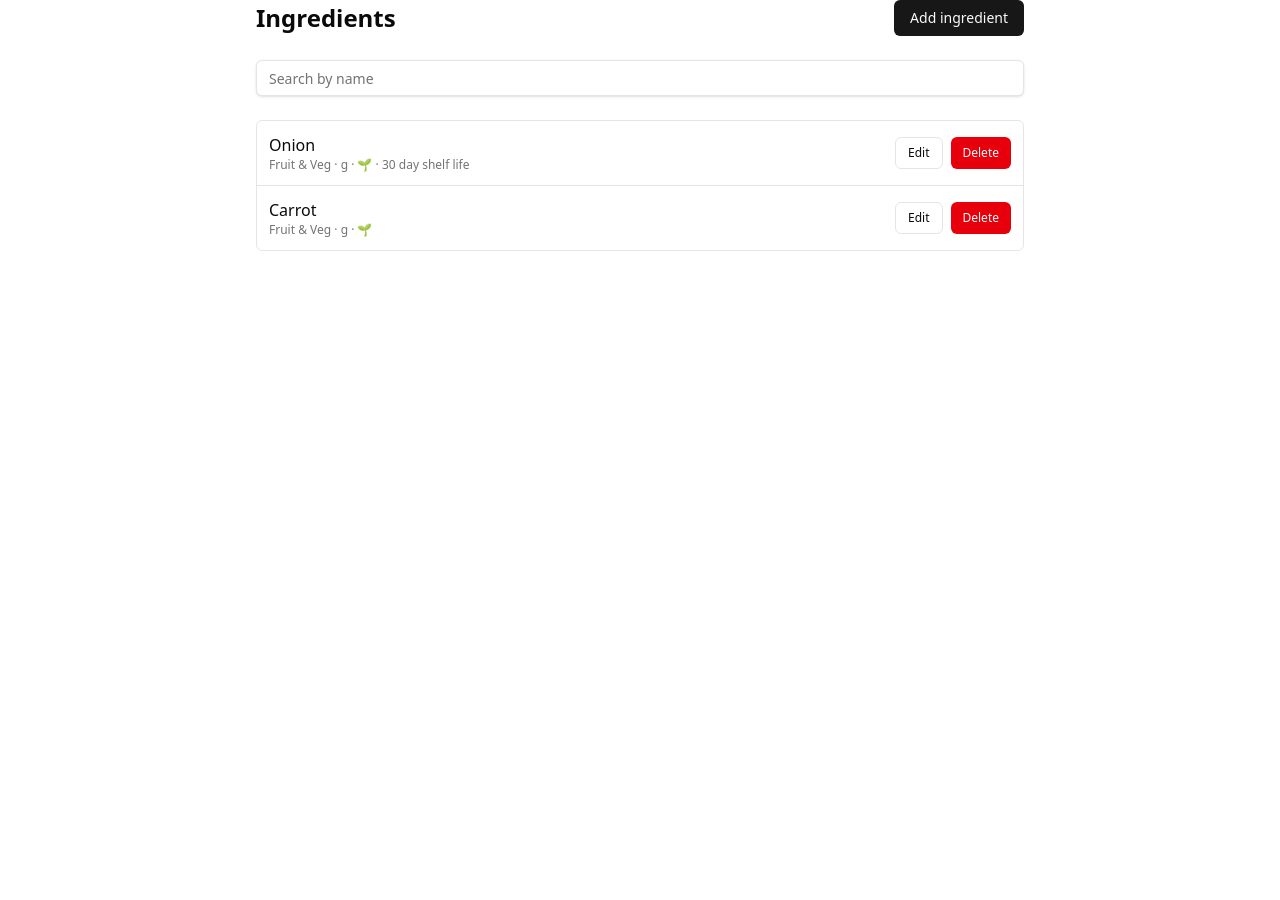
Test case: IngredientsPage › surfaces INGREDIENT_NAME_TAKEN on the form during create
This screenshot has width=1280, height=900.
Click the button "Add ingredient": (959, 18) 894,0 -> 1024,36
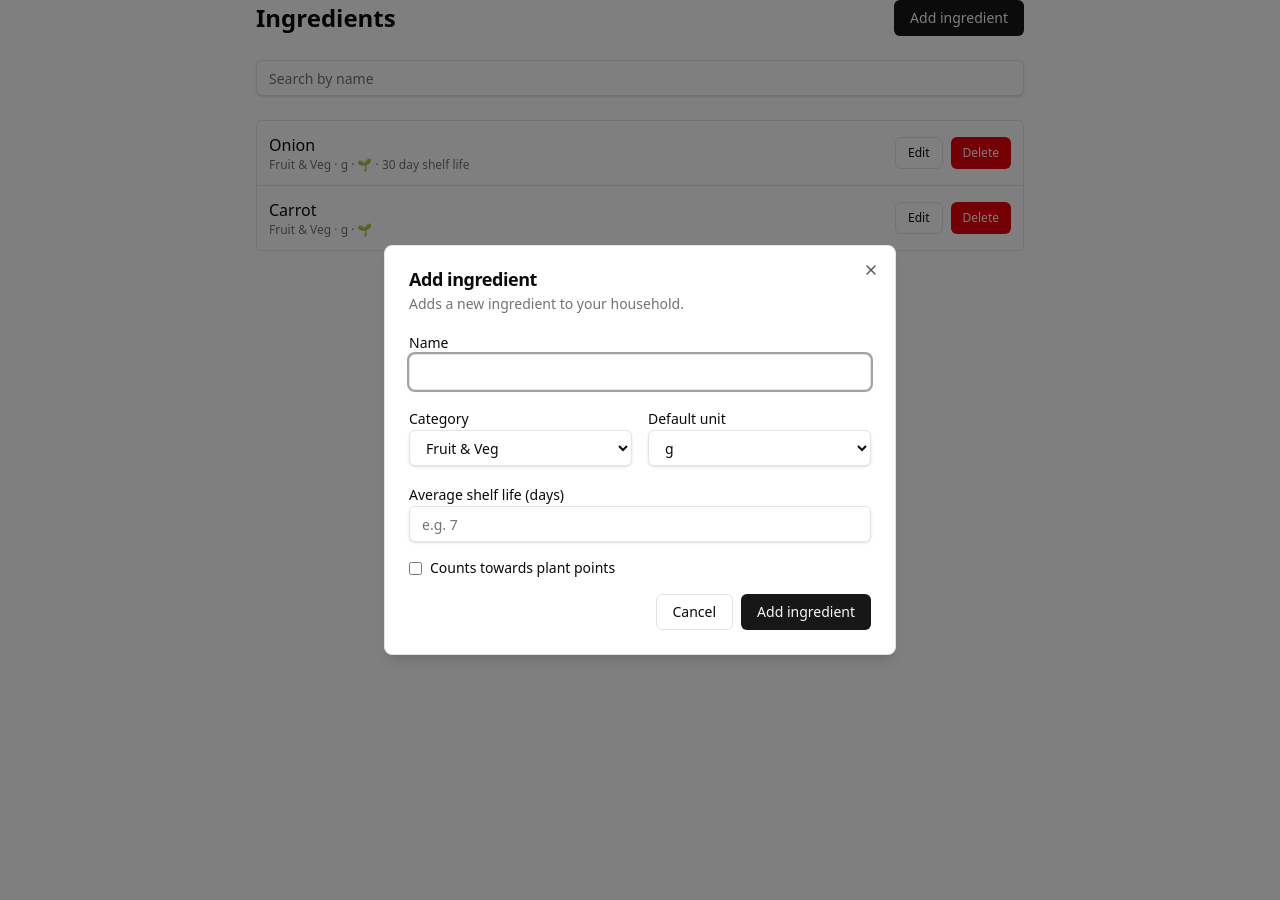
In the field labelled "Name": (640, 372) 409,354 -> 871,390, type "Onion"
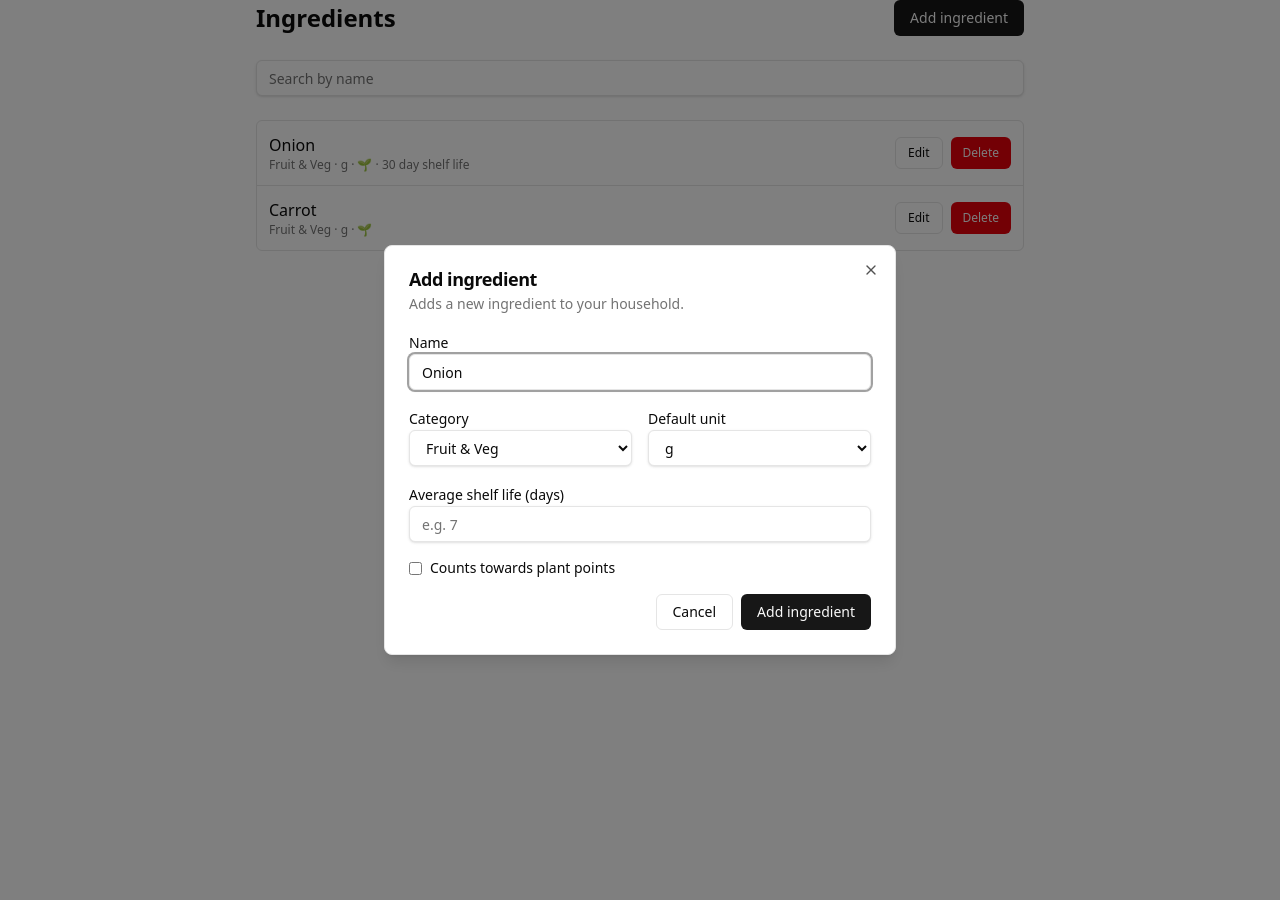
Click the button "Add ingredient": (806, 612) 741,594 -> 871,630
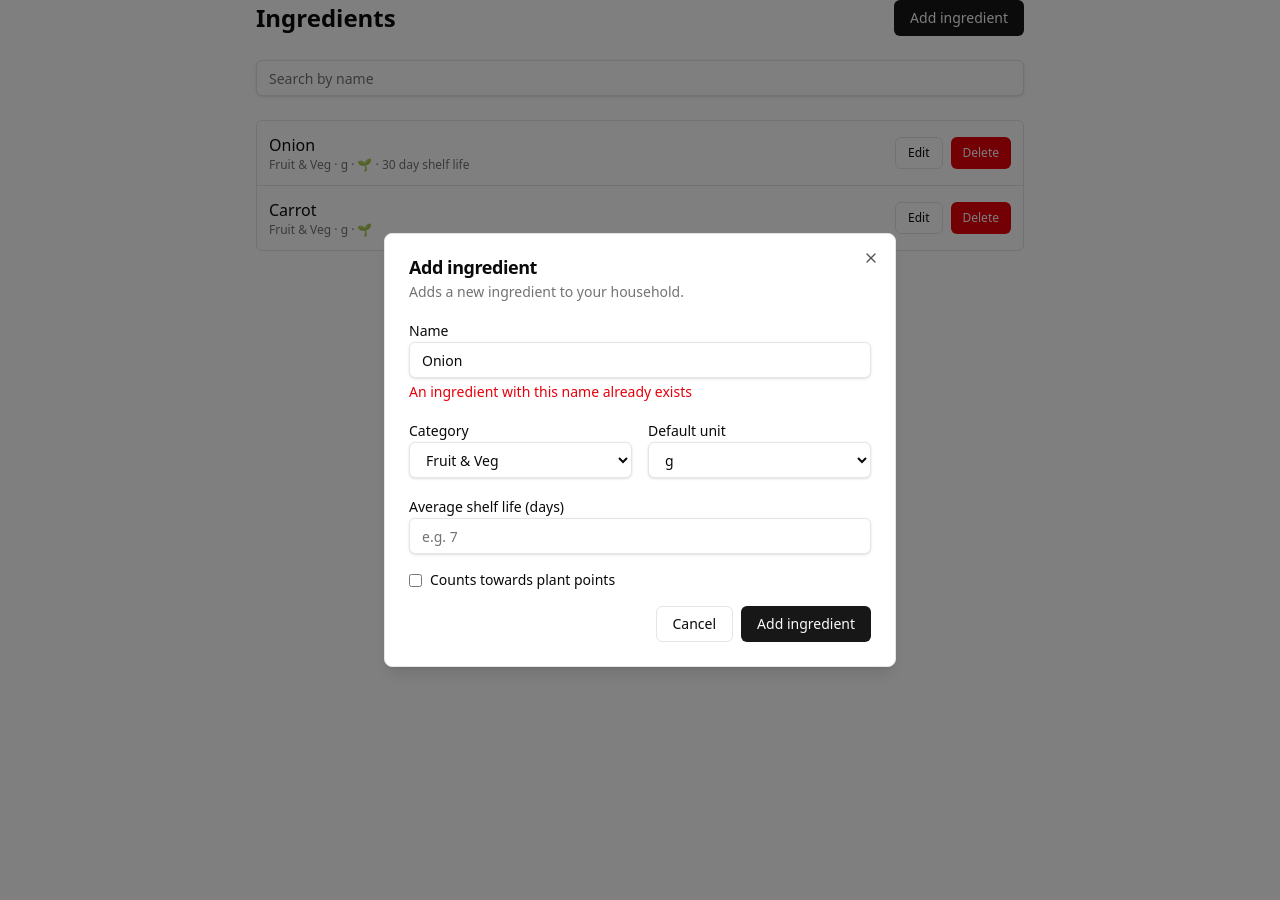
Now the message shows "already exists", box 409,382 -> 692,401
